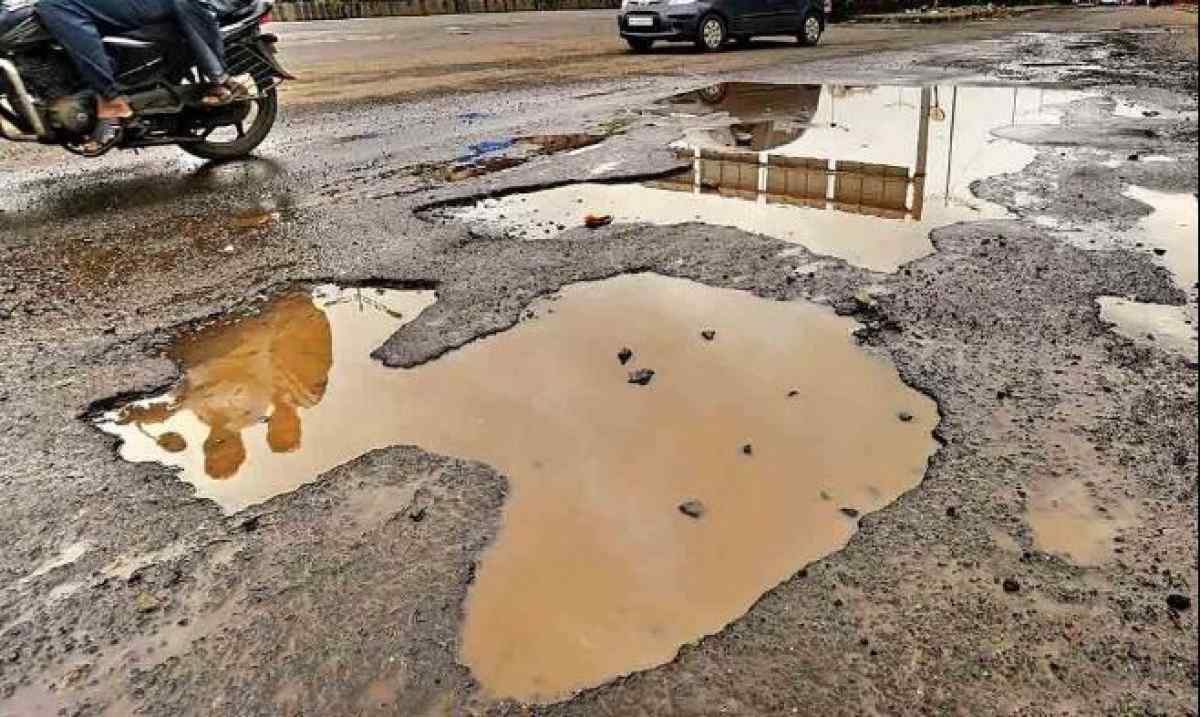pothole: (79, 262, 947, 708), (426, 52, 1099, 259), (1054, 158, 1200, 395), (1006, 414, 1157, 603)
